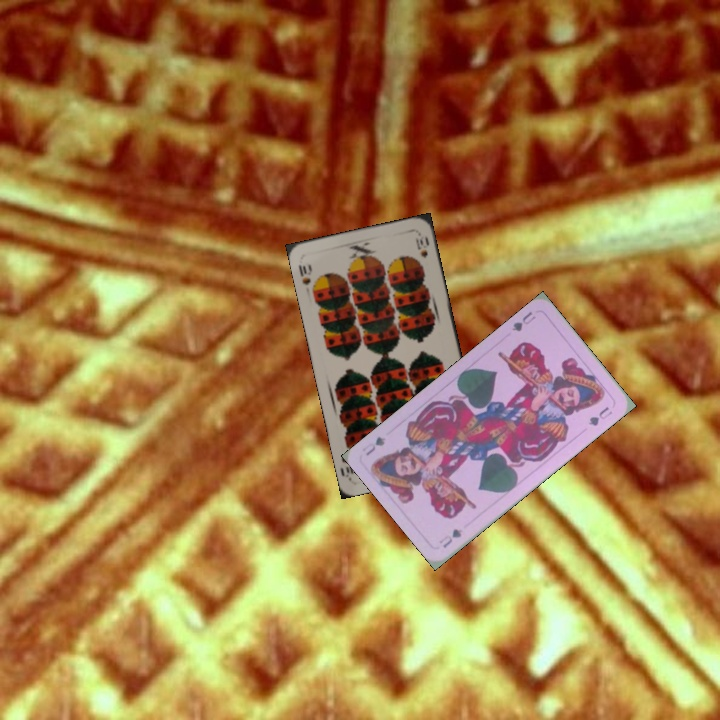GU: (508, 307, 538, 334), (435, 524, 465, 551)
S10: (294, 260, 315, 288)
